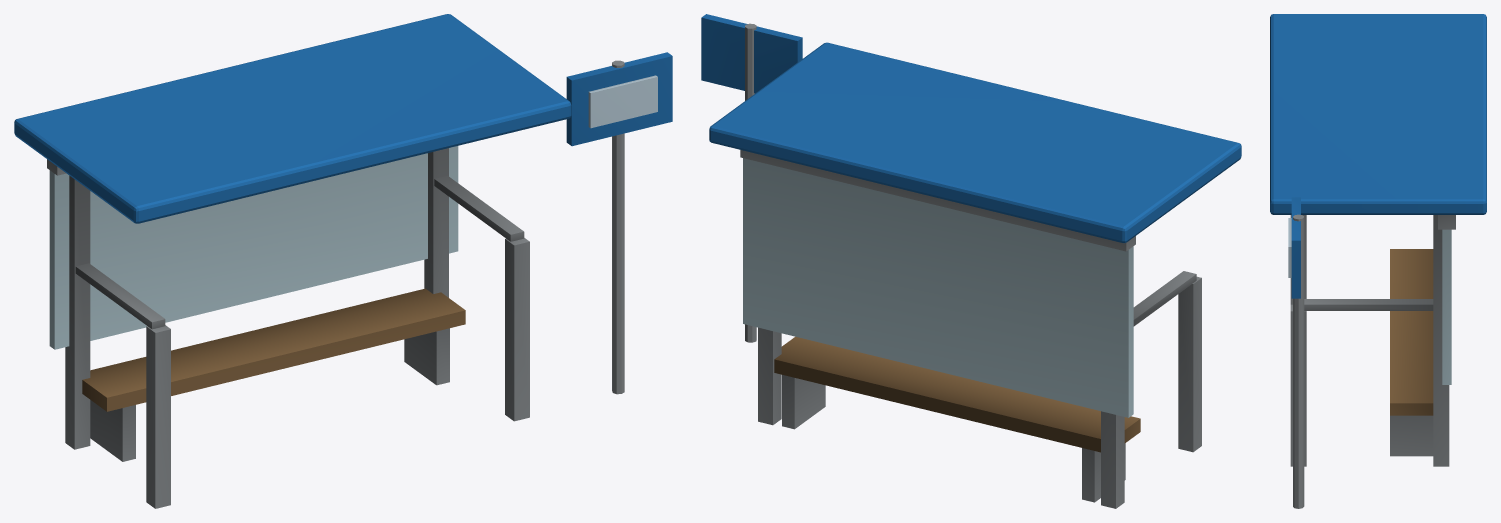
The model's file is parada-BM6XGqmF.glb.
3 renders of one model, left to right at view 1: azimuth 30°, elevation 25°; view 2: azimuth 150°, elevation 25°; view 3: azimuth 270°, elevation 25°, orthographic. The views are drawn at different scales.
Visible parts, largest first — view 1: pieza.006, pieza.007, pieza.009, pieza, pieza.012, pieza.004, pieza.001, cilindro, pieza.003, pieza.013, pieza.010, pieza.011 (+2 smaller); view 2: pieza.007, pieza.006, pieza.009, pieza.012, pieza.001, pieza.008, pieza, pieza.003, pieza.011, pieza.002, pieza.010, cilindro; view 3: pieza.006, pieza.009, pieza.003, cilindro, pieza.011, pieza.005, pieza.007, pieza.012, pieza.004, pieza.001, pieza.008.
Part boxes in pixels (x1,y1,x2,y2): pieza.006: (14, 14, 571, 223); pieza.007: (49, 146, 458, 349); pieza.009: (82, 288, 465, 411); pieza: (65, 175, 90, 449); pieza.012: (566, 52, 672, 146); pieza.004: (505, 238, 529, 421); pieza.001: (146, 325, 170, 508); cilindro: (612, 60, 624, 394); pieza.003: (424, 148, 448, 297); pieza.013: (588, 75, 657, 128); pieza.010: (90, 400, 135, 461); pieza.011: (404, 328, 449, 385); pieza.007: (743, 158, 1133, 417); pieza.006: (709, 42, 1241, 243); pieza.009: (774, 336, 1140, 452); pieza.012: (701, 14, 802, 93); pieza.001: (1178, 276, 1201, 452); pieza.008: (740, 150, 1135, 251); pieza: (1101, 411, 1124, 508); pieza.003: (758, 327, 781, 425); pieza.011: (782, 375, 825, 429); pieza.002: (1133, 271, 1196, 326); pieza.010: (1082, 443, 1125, 502); cilindro: (745, 23, 756, 342); pieza.006: (1270, 14, 1486, 214); pieza.009: (1390, 249, 1433, 415); pieza.003: (1433, 215, 1449, 466); cilindro: (1293, 214, 1304, 508); pieza.011: (1390, 415, 1433, 456); pieza.005: (1304, 299, 1433, 310); pieza.007: (1442, 229, 1451, 384); pieza.012: (1291, 197, 1300, 298); pieza.004: (1290, 304, 1306, 466); pieza.001: (1290, 215, 1306, 304); pieza.008: (1438, 215, 1455, 229).
Bounding box in the file's own units: 4.9 × 2.8 × 1.9.
